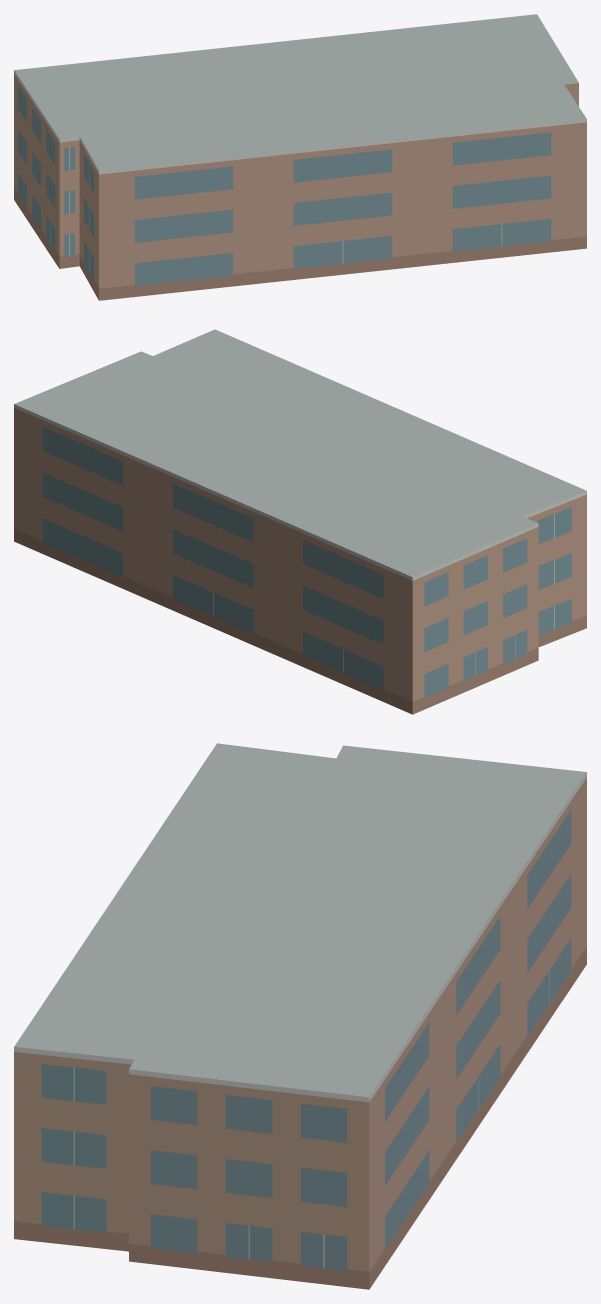
The model's file is survey-upis-32833345.glb.
The picture shows the model from 3 angles, top to bottom: view 1: azimuth 30°, elevation 25°; view 2: azimuth 150°, elevation 25°; view 3: azimuth 270°, elevation 25°; orthographic projection. The views are drawn at different scales.
Visible parts, largest first — view 1: survey-upis-32833345.tmp; view 2: survey-upis-32833345.tmp; view 3: survey-upis-32833345.tmp.
Part boxes in pixels (box(x1,y1,x2,y2)): survey-upis-32833345.tmp: box(14, 14, 586, 300); survey-upis-32833345.tmp: box(14, 329, 586, 714); survey-upis-32833345.tmp: box(14, 743, 586, 1289).
Size of the model in its own units: 36.15 by 9.15 by 24.71.
